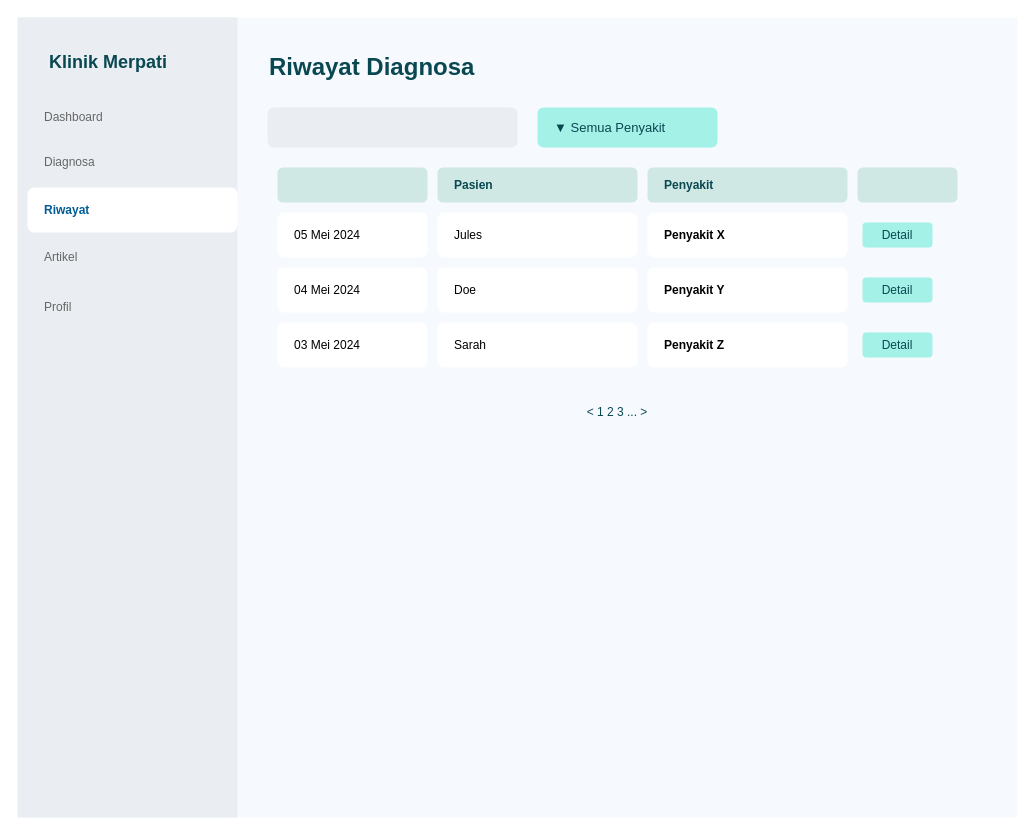
Some shapes in this 1034 by 834 pixel diagram are drawn without their labels. The centre of each missing label's shape, as x and y in pixels:
Aksi: the point at 907,184
Cari nama pasien...: the point at 392,127
Tanggal: the point at 352,184
